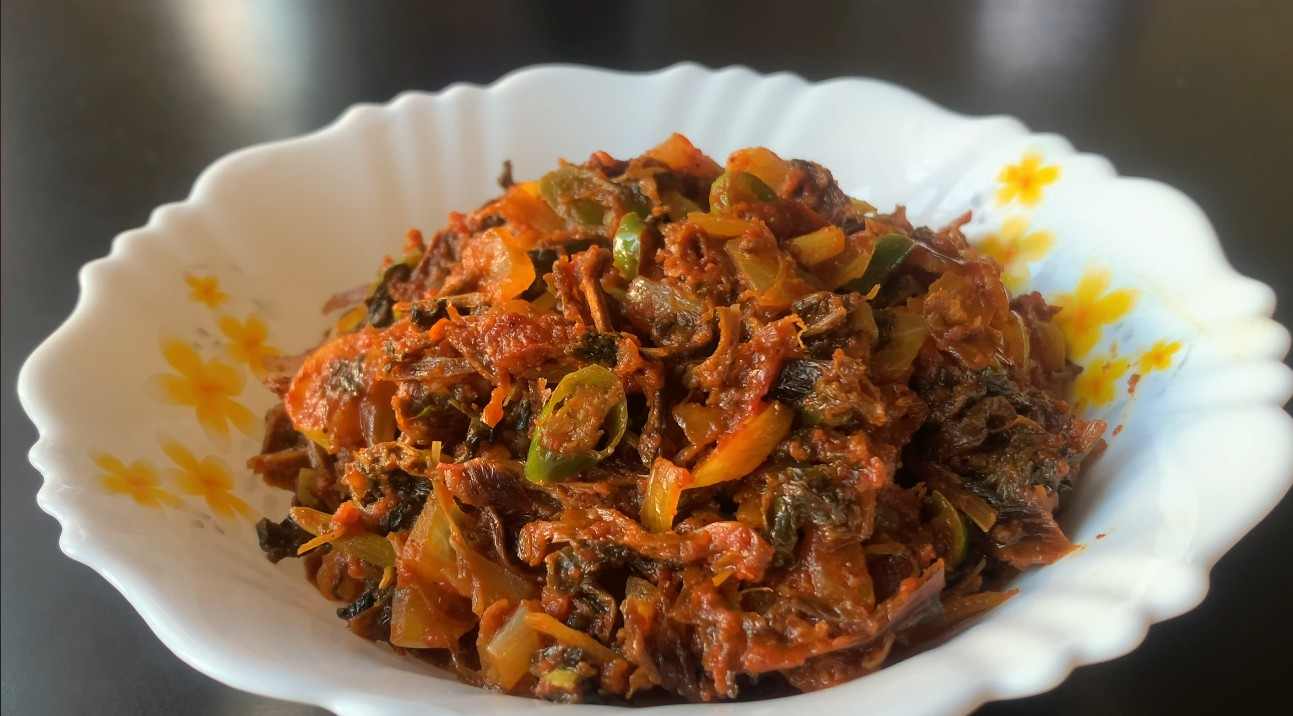gundruk: (253, 153, 1063, 680)
